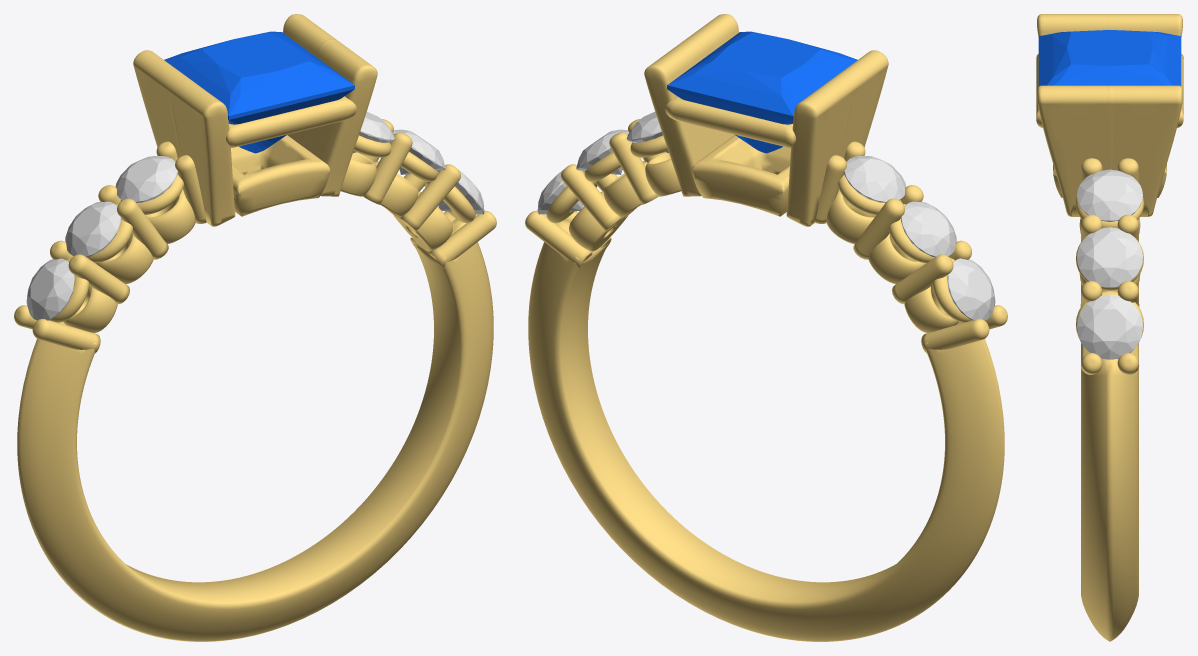
File: bluesapphire-princess-yellowgold-halfmoonbezel-knifeedge-7stone.glb
3 views of the same model, side by side, from view 1: azimuth 30°, elevation 25°; view 2: azimuth 150°, elevation 25°; view 3: azimuth 270°, elevation 25° (orthographic).
Visible parts, largest first — view 1: metal, stone, side.001, side, side.002, side.004, side.003, side.005; view 2: metal, stone, side.001, side, side.002, side.004, side.003, side.005; view 3: metal, stone, side.005, side.004, side.003.
Boxes of the visible parts, box(x1,y1,x2,y2) form: metal: box(14, 14, 496, 641); stone: box(164, 31, 354, 153); side.001: box(65, 201, 120, 257); side: box(26, 258, 74, 320); side.002: box(115, 156, 177, 202); side.004: box(392, 129, 445, 174); side.003: box(353, 111, 395, 153); side.005: box(437, 170, 484, 214); metal: box(525, 14, 1007, 641); stone: box(667, 31, 857, 153); side.001: box(901, 201, 956, 257); side: box(947, 258, 995, 320); side.002: box(844, 156, 906, 202); side.004: box(576, 129, 629, 174); side.003: box(626, 111, 668, 153); side.005: box(537, 170, 584, 214); metal: box(1036, 14, 1183, 641); stone: box(1038, 30, 1181, 86); side.005: box(1077, 294, 1142, 359); side.004: box(1077, 227, 1142, 288); side.003: box(1077, 169, 1142, 221).
Bounding box in the file's own units: 20.5 × 23.85 × 5.6.
